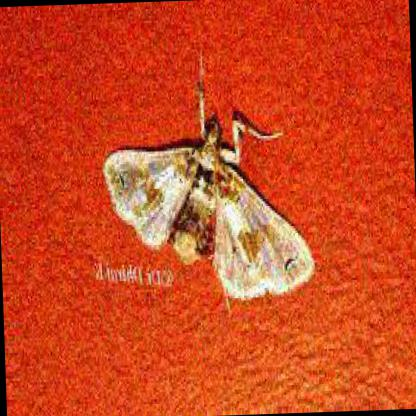leucinodes: (102, 77, 313, 301)
